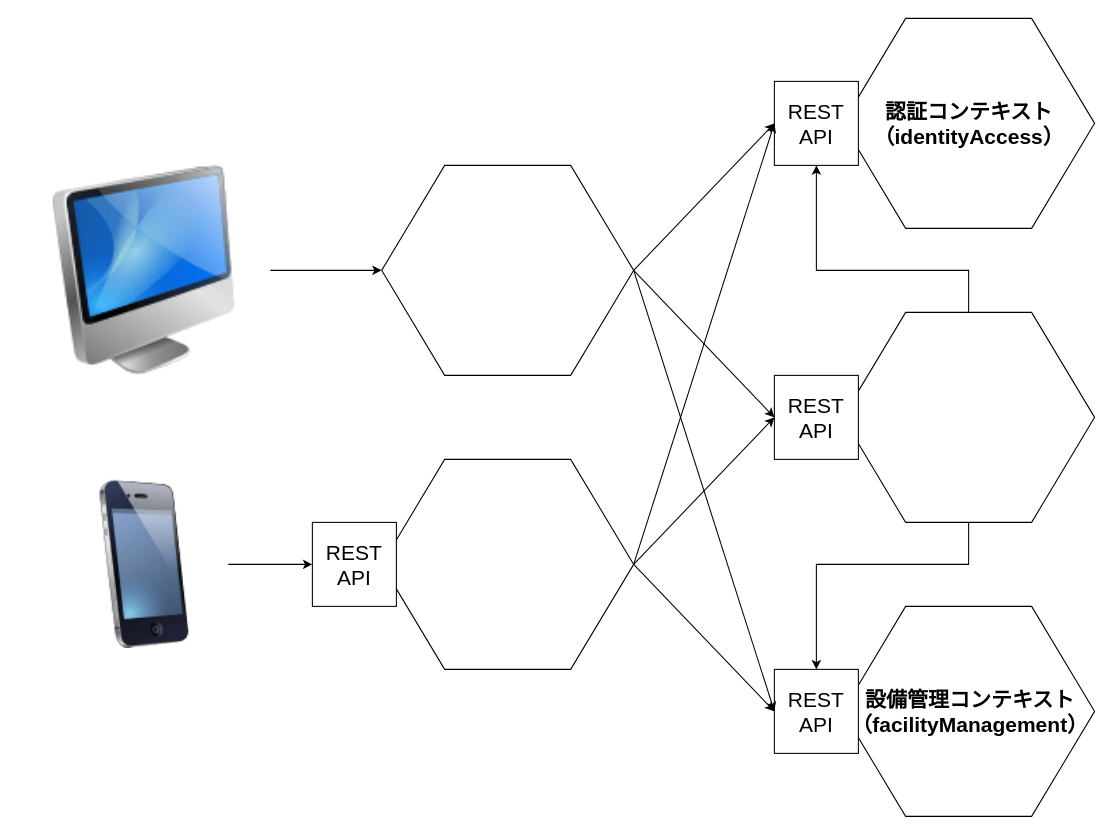
Some shapes in this 1113 by 835 pixel diagram are drawn without their labels. The centre of each missing label's shape, as x and y in pixels:
"予約コンテキスト （reservation）" goes at [968,416].
"会員サイト BFF" goes at [507,563].
"管理サイト （managementSite） Web UI" goes at [507,269].
